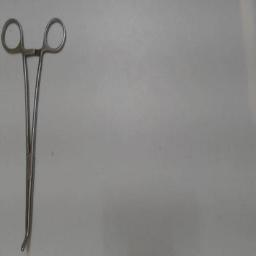Lahey Forceps: (1, 12, 71, 254)
